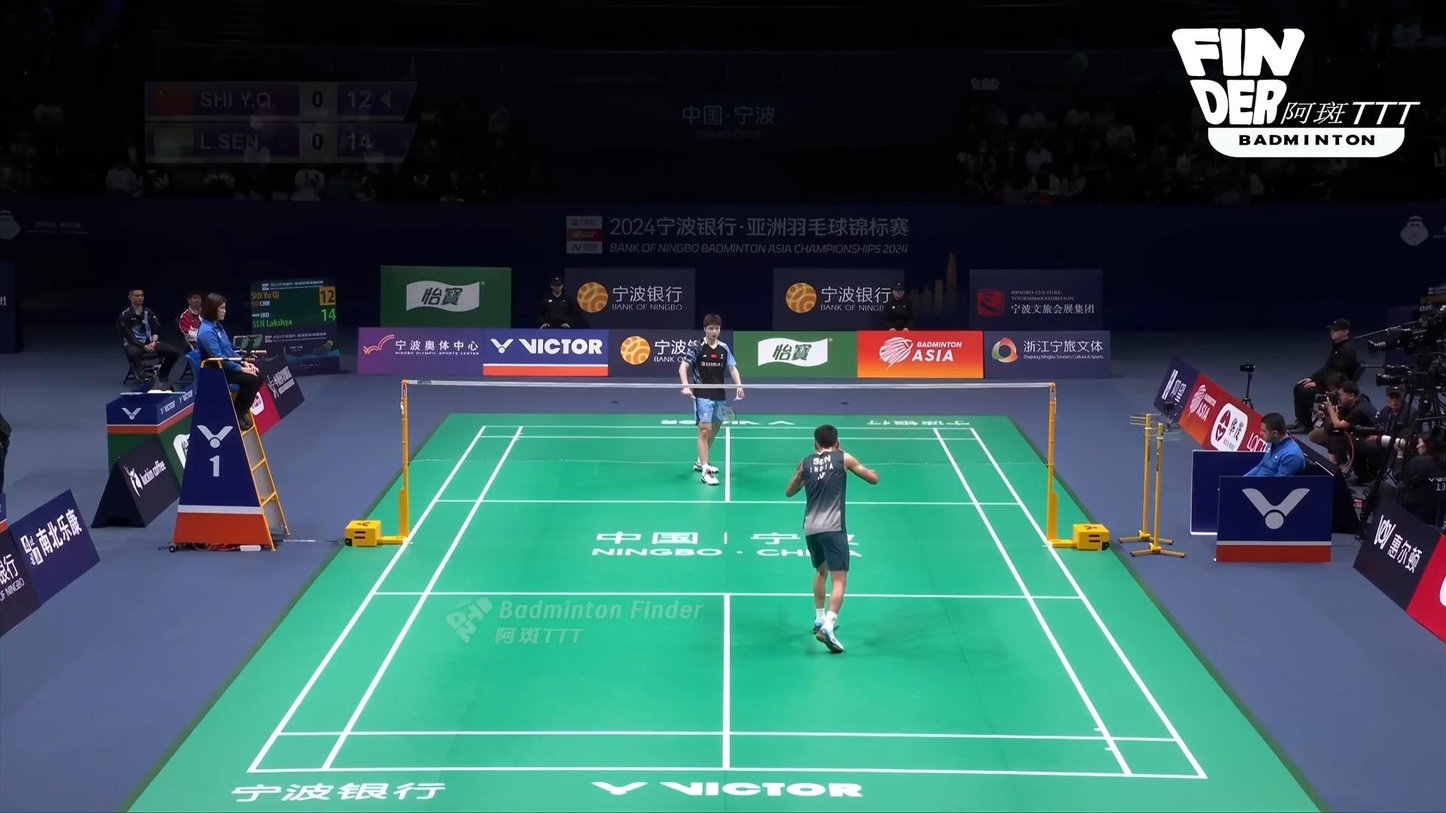player: (786, 425, 880, 654), (679, 315, 743, 486)
